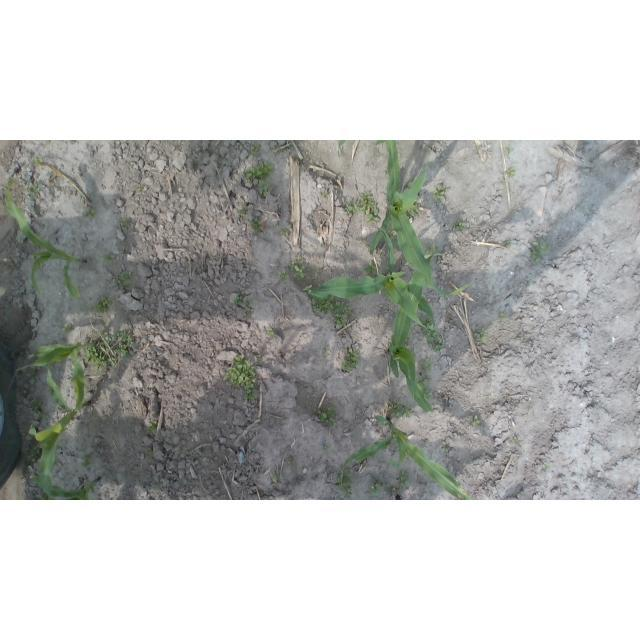Maize: (369, 140, 471, 297), (338, 416, 474, 500), (3, 175, 87, 300), (392, 253, 447, 414), (304, 268, 436, 334), (30, 368, 91, 501), (12, 344, 86, 412), (27, 465, 102, 500), (337, 140, 391, 150)
Weeds: (223, 353, 257, 403), (418, 314, 446, 352), (86, 346, 117, 371), (360, 191, 380, 223), (114, 330, 134, 360), (336, 468, 354, 499), (244, 161, 274, 179), (341, 348, 362, 373), (332, 301, 352, 327), (388, 399, 413, 417), (530, 242, 549, 264), (312, 295, 334, 314), (316, 406, 336, 426), (417, 376, 433, 399), (114, 270, 132, 290), (30, 398, 47, 419), (92, 297, 112, 314), (20, 364, 37, 382), (432, 184, 449, 201), (418, 357, 434, 375), (344, 200, 361, 215), (258, 179, 272, 197), (99, 331, 115, 346), (369, 479, 381, 497), (285, 456, 299, 471), (474, 329, 488, 344), (288, 257, 303, 271), (27, 449, 41, 464), (363, 262, 377, 276), (250, 217, 262, 233), (27, 182, 40, 196), (425, 241, 438, 255), (101, 252, 116, 264), (400, 470, 409, 489), (62, 324, 75, 337), (453, 220, 467, 232), (146, 420, 158, 434), (385, 225, 395, 241), (86, 208, 99, 220), (410, 203, 421, 217), (504, 166, 516, 178), (293, 266, 305, 278), (121, 218, 130, 233), (279, 270, 290, 282), (471, 415, 481, 428), (389, 486, 404, 494), (250, 144, 260, 155), (279, 225, 289, 236), (35, 494, 53, 500), (236, 204, 244, 217), (497, 313, 507, 323), (321, 347, 331, 357), (34, 157, 43, 168), (234, 295, 243, 306), (243, 309, 254, 318), (82, 456, 91, 467), (539, 461, 551, 469), (266, 326, 274, 338), (505, 145, 514, 155), (394, 241, 403, 251), (303, 285, 312, 294), (323, 443, 331, 453), (245, 298, 253, 306), (513, 436, 520, 445), (322, 190, 329, 199), (505, 240, 511, 249), (147, 447, 153, 455), (445, 445, 451, 452), (273, 471, 279, 478), (257, 355, 263, 362), (501, 178, 506, 184), (137, 187, 143, 191), (44, 141, 50, 144), (524, 338, 528, 342), (54, 460, 58, 464), (510, 140, 514, 142)
